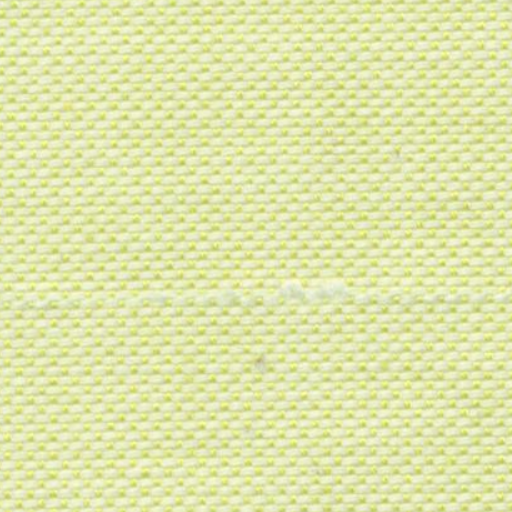TuoSha: (32, 252, 492, 332)
